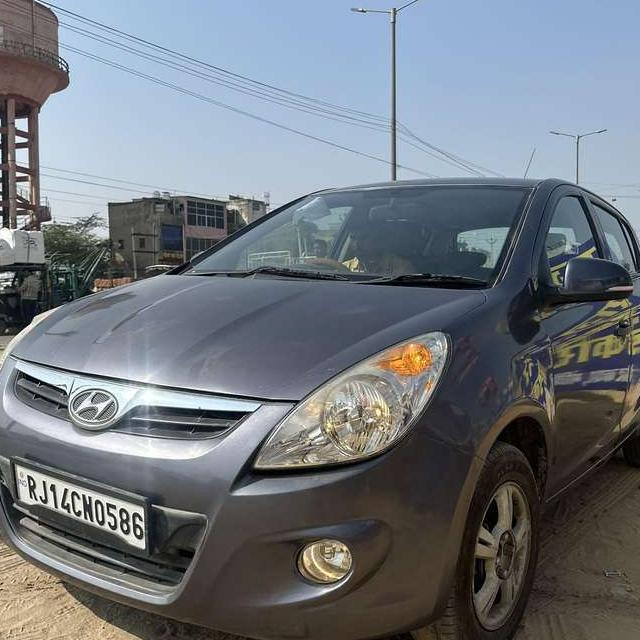Indian_Number_Plate: (15, 462, 153, 558)
